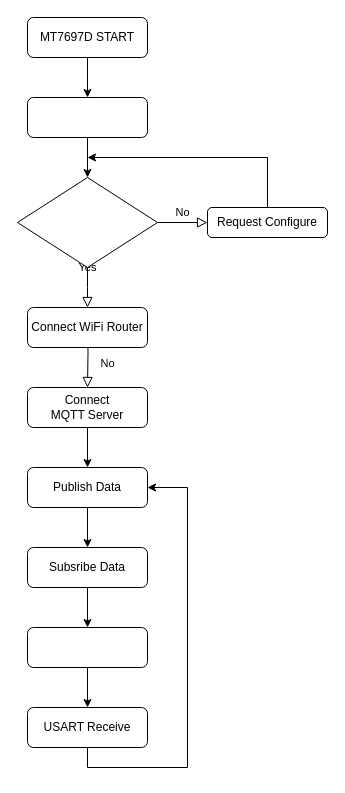
This 345x793 diagram has some shape labels left out. Each missing label, with the centre of its shape:
"GET Configure Information?" goes at pixel 87 222.
"Network Init" goes at pixel 87 117.
"USART Send" goes at pixel 87 647.
